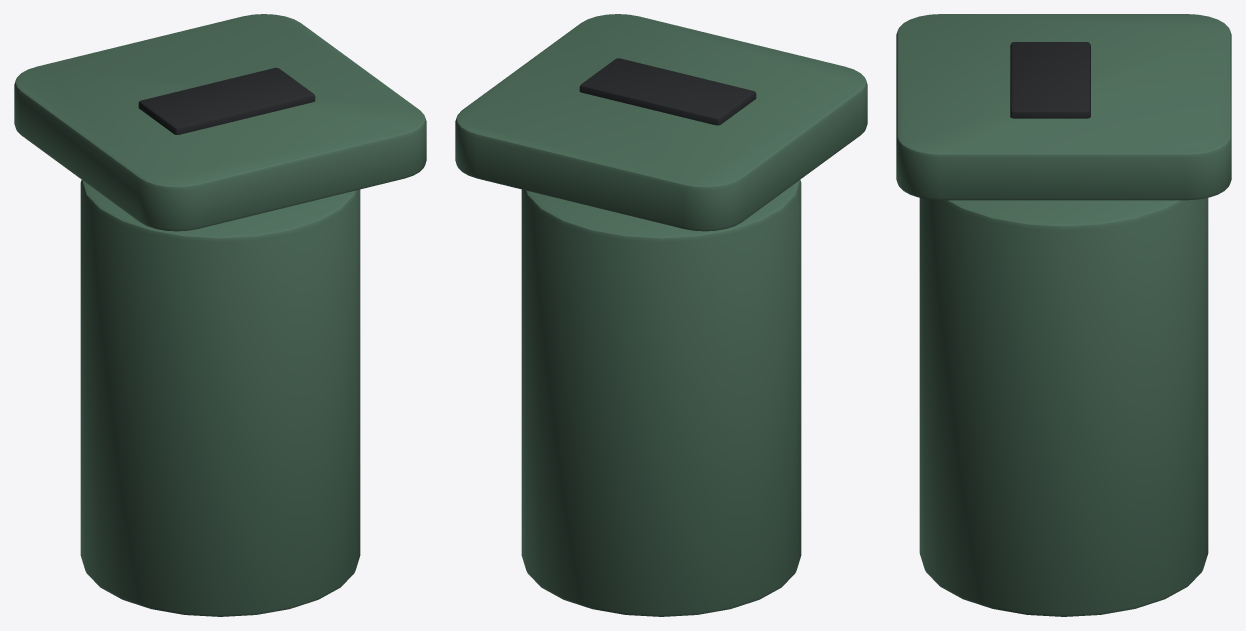
File: trash_can_public.glb
The picture shows the model from 3 angles, left to right: view 1: azimuth 30°, elevation 25°; view 2: azimuth 150°, elevation 25°; view 3: azimuth 270°, elevation 25°; orthographic projection. The views are drawn at different scales.
Parts seen in each view (by area): view 1: TrashCan_Body, TrashCan_Lid, TrashCan_Opening_1; view 2: TrashCan_Body, TrashCan_Lid, TrashCan_Opening_1; view 3: TrashCan_Body, TrashCan_Lid, TrashCan_Opening_1.
Boxes of the visible parts, bbox=[...] form: TrashCan_Body: bbox=[80, 180, 360, 616]; TrashCan_Lid: bbox=[14, 14, 426, 231]; TrashCan_Opening_1: bbox=[138, 67, 315, 134]; TrashCan_Body: bbox=[521, 180, 801, 616]; TrashCan_Lid: bbox=[455, 14, 867, 231]; TrashCan_Opening_1: bbox=[579, 58, 756, 125]; TrashCan_Body: bbox=[919, 198, 1208, 616]; TrashCan_Lid: bbox=[896, 14, 1231, 200]; TrashCan_Opening_1: bbox=[1010, 42, 1090, 118].
Size of what is drawn, in the model's own units: 0.52 by 0.8243 by 0.52.
